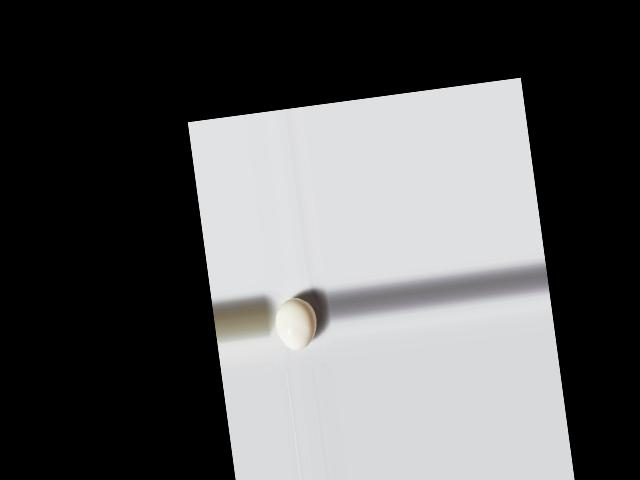egg: (272, 294, 320, 351)
